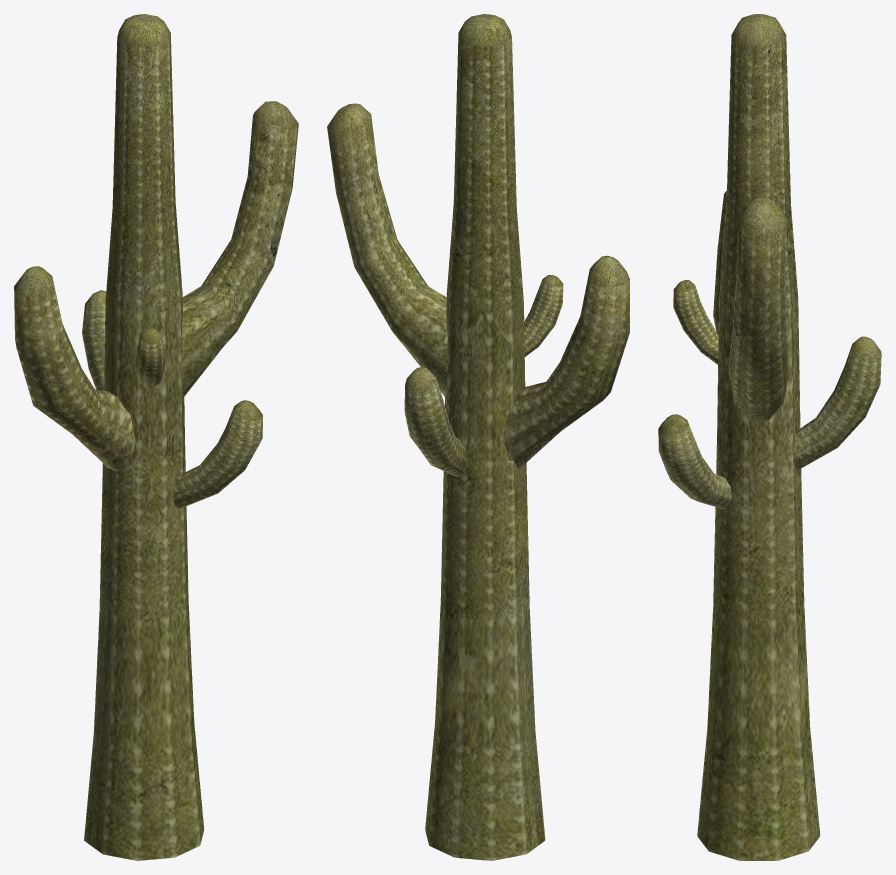
The model's file is object_39.003.001_lev2.glb.
The picture shows the model from 3 angles, left to right: view 1: azimuth 30°, elevation 25°; view 2: azimuth 150°, elevation 25°; view 3: azimuth 270°, elevation 25°; orthographic projection.
Visible parts, largest first — view 1: object_39.003.001_lev2; view 2: object_39.003.001_lev2; view 3: object_39.003.001_lev2.
Boxes of the visible parts, x1,y1,x2,y2 form: object_39.003.001_lev2: (14,14,298,860); object_39.003.001_lev2: (327,14,629,860); object_39.003.001_lev2: (658,14,881,860).
Bounding box in the file's own units: 1.2 × 3.27 × 0.8083.
1 material, 1 textured.
